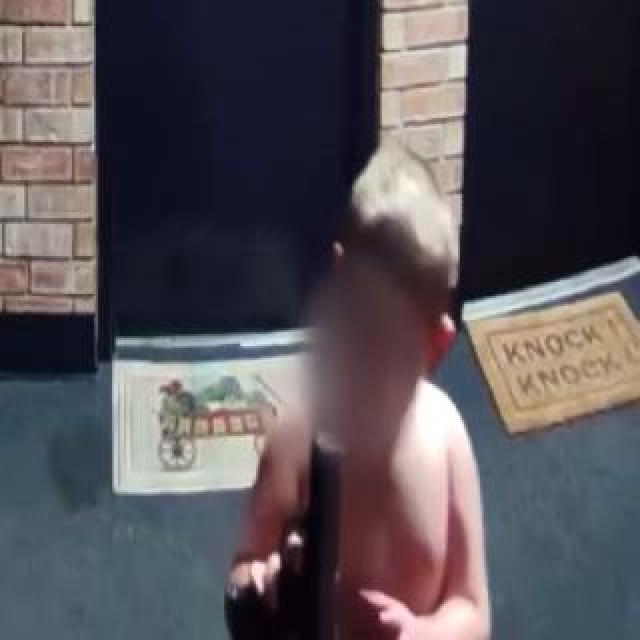Guns: (194, 417, 376, 640)
